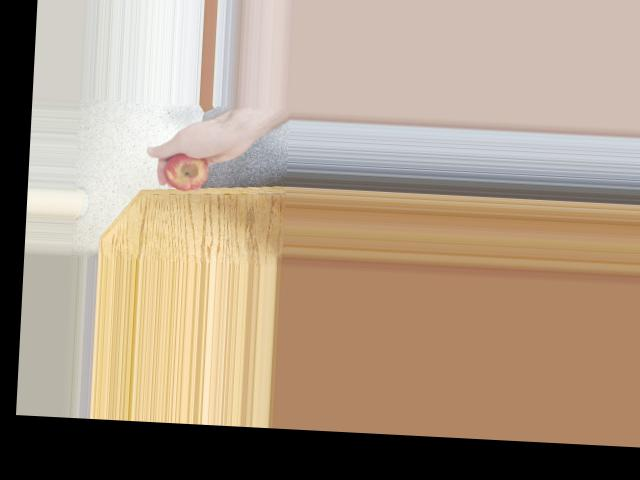apple: (160, 147, 212, 193)
